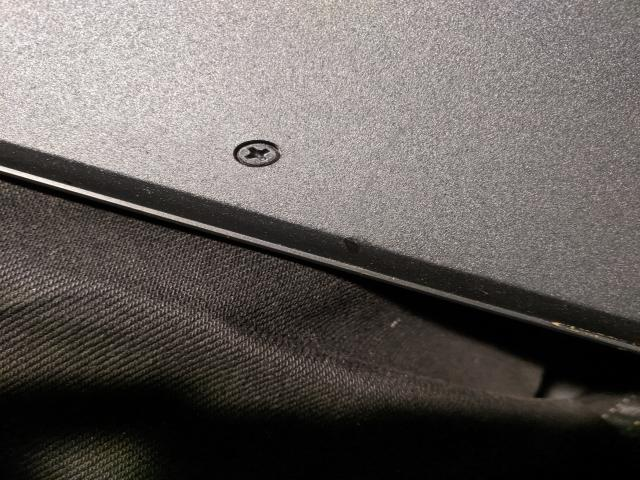CRS: (234, 142, 278, 168)
